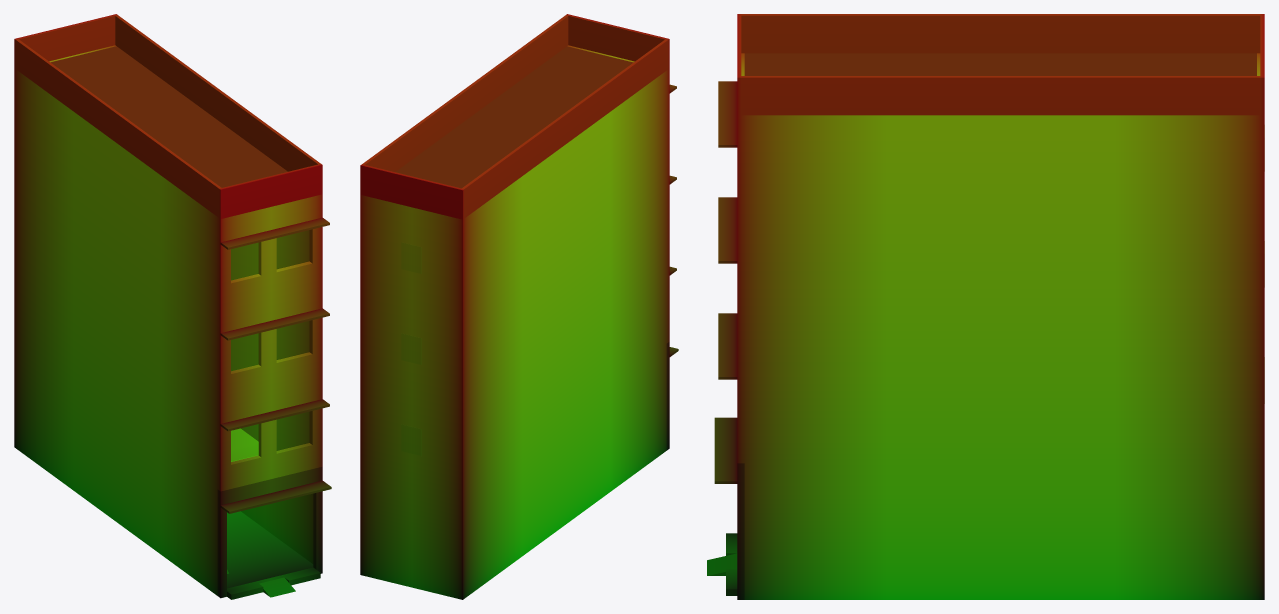
Rendered from nha_ong_homestay_4x14.mid.glb.
The picture shows the model from 3 angles, left to right: view 1: azimuth 30°, elevation 25°; view 2: azimuth 150°, elevation 25°; view 3: azimuth 270°, elevation 25°; orthographic projection. The views are drawn at different scales.
Visible parts, largest first — view 1: nha_ong_homestay_4x14; view 2: nha_ong_homestay_4x14; view 3: nha_ong_homestay_4x14.
Boxes of the visible parts, x1,y1,x2,y2 form: nha_ong_homestay_4x14: [14, 14, 331, 599]; nha_ong_homestay_4x14: [360, 14, 678, 599]; nha_ong_homestay_4x14: [707, 14, 1264, 599].
Size of what is drawn, in the model's own units: 4 by 15.3 by 14.81.
